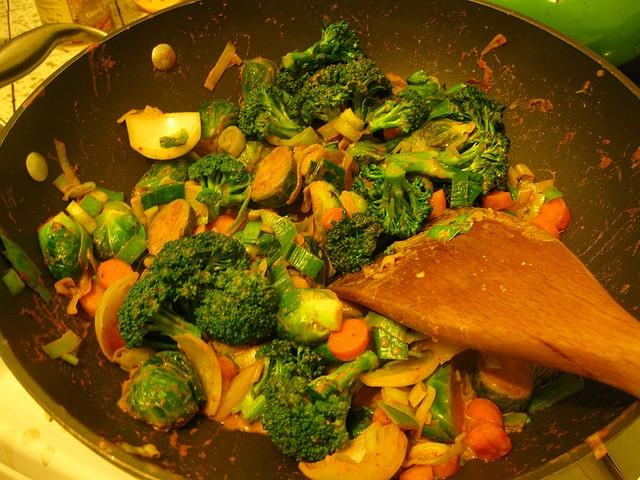broccoli: (261, 350, 379, 463), (150, 231, 252, 324), (384, 131, 511, 194), (232, 338, 325, 424), (194, 266, 282, 347), (117, 276, 201, 350), (368, 162, 433, 239), (188, 150, 250, 221), (282, 19, 363, 70), (240, 84, 310, 142), (324, 210, 384, 275), (340, 58, 392, 122), (446, 84, 508, 136), (369, 89, 428, 135), (280, 89, 291, 106)
carrot: (464, 422, 512, 461), (328, 319, 369, 361), (467, 398, 502, 436), (536, 197, 571, 231), (97, 258, 134, 290), (80, 283, 106, 317), (431, 454, 460, 478), (482, 190, 512, 211), (426, 189, 446, 220), (320, 207, 344, 232), (209, 214, 236, 236), (216, 356, 237, 382), (400, 464, 434, 480), (372, 406, 392, 426), (383, 128, 402, 144)
